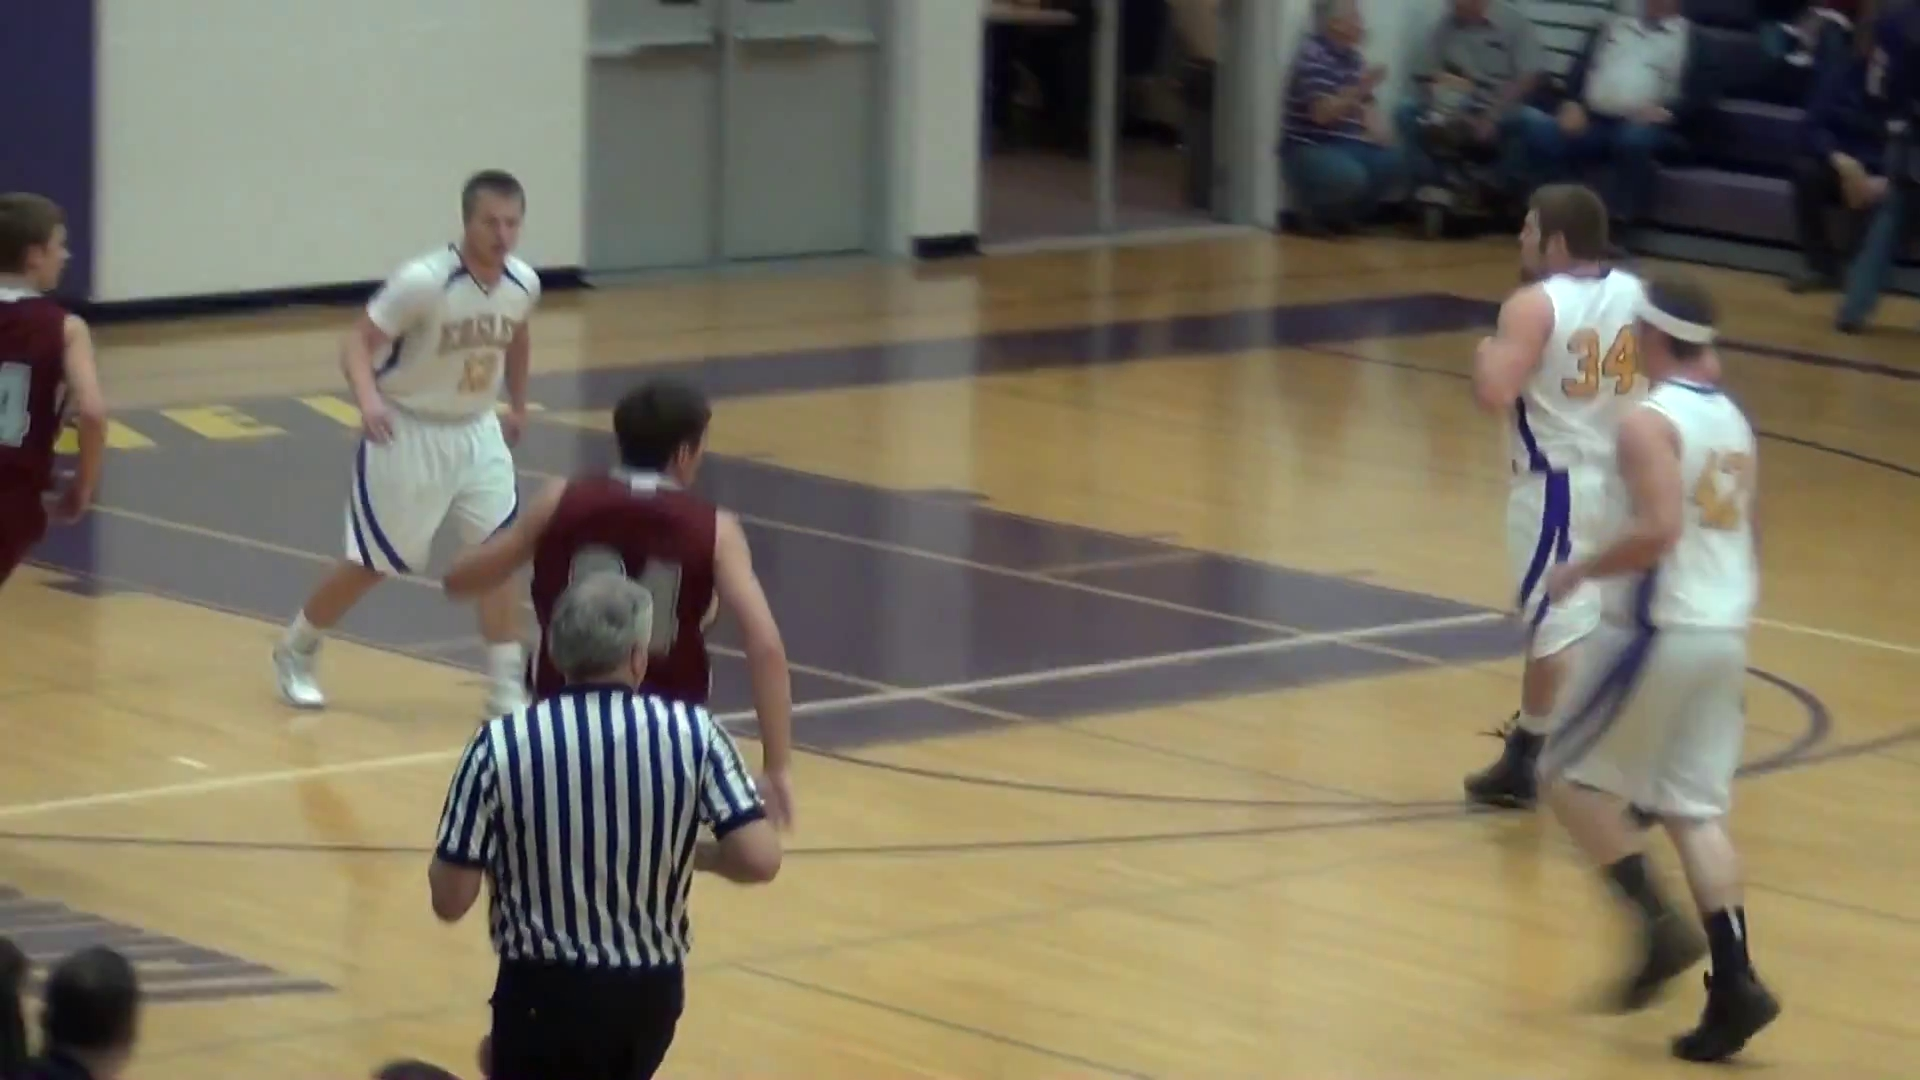person: (1544, 279, 1778, 1064), (426, 574, 782, 1079), (443, 384, 792, 832), (276, 171, 542, 717), (1467, 185, 1654, 807), (4, 190, 106, 589)
